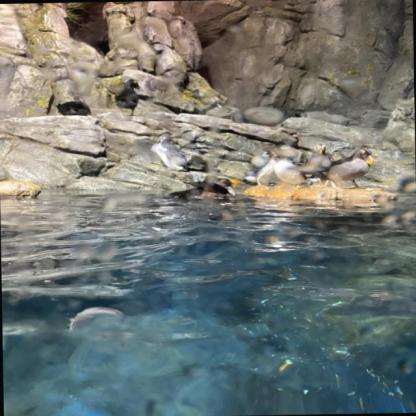puffin: (323, 148, 374, 189), (288, 142, 338, 182), (151, 131, 190, 172), (104, 78, 142, 115), (243, 154, 285, 187), (273, 155, 309, 186), (197, 173, 235, 197), (56, 100, 92, 116), (248, 150, 276, 170)
